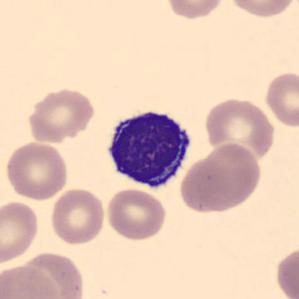Lymphocyte: (100, 104, 198, 193)
RBC: (183, 141, 264, 214), (202, 96, 276, 162), (3, 140, 71, 201), (25, 85, 96, 143), (48, 186, 107, 247), (104, 186, 168, 241), (18, 249, 86, 299), (178, 155, 231, 215), (0, 198, 41, 266), (0, 263, 60, 299), (262, 69, 298, 129), (273, 243, 298, 299), (226, 0, 296, 19), (163, 0, 226, 21)
